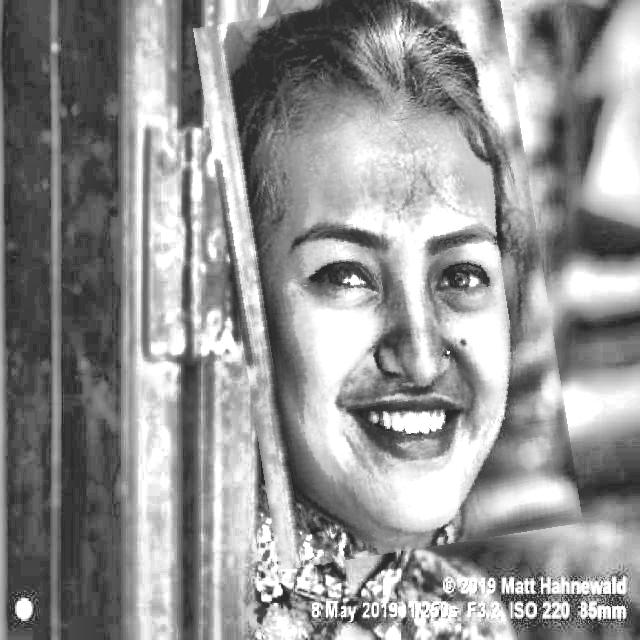happy: (213, 0, 562, 559)
